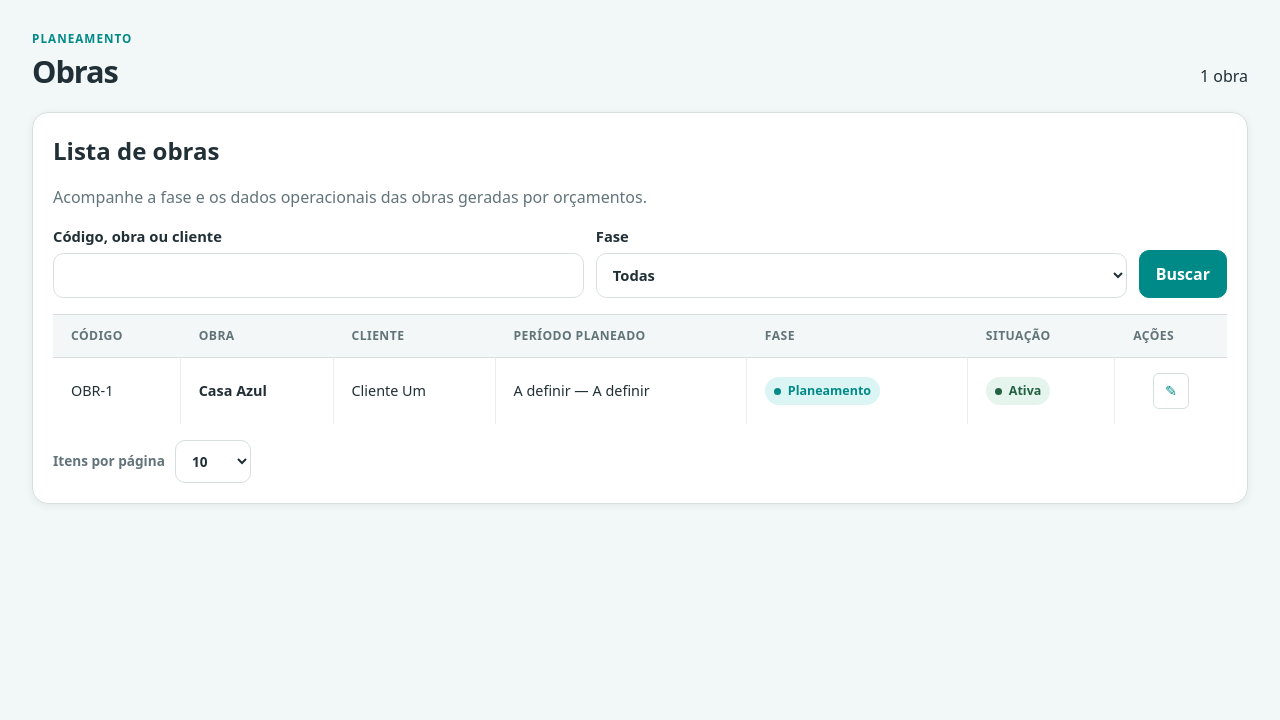
Test: project flows › opens project details from the row and has no manual registration
The image size is (1280, 720).
Click the row named "Abrir detalhes de Casa Azul" at point(640, 391), box 53,357 -> 1227,424
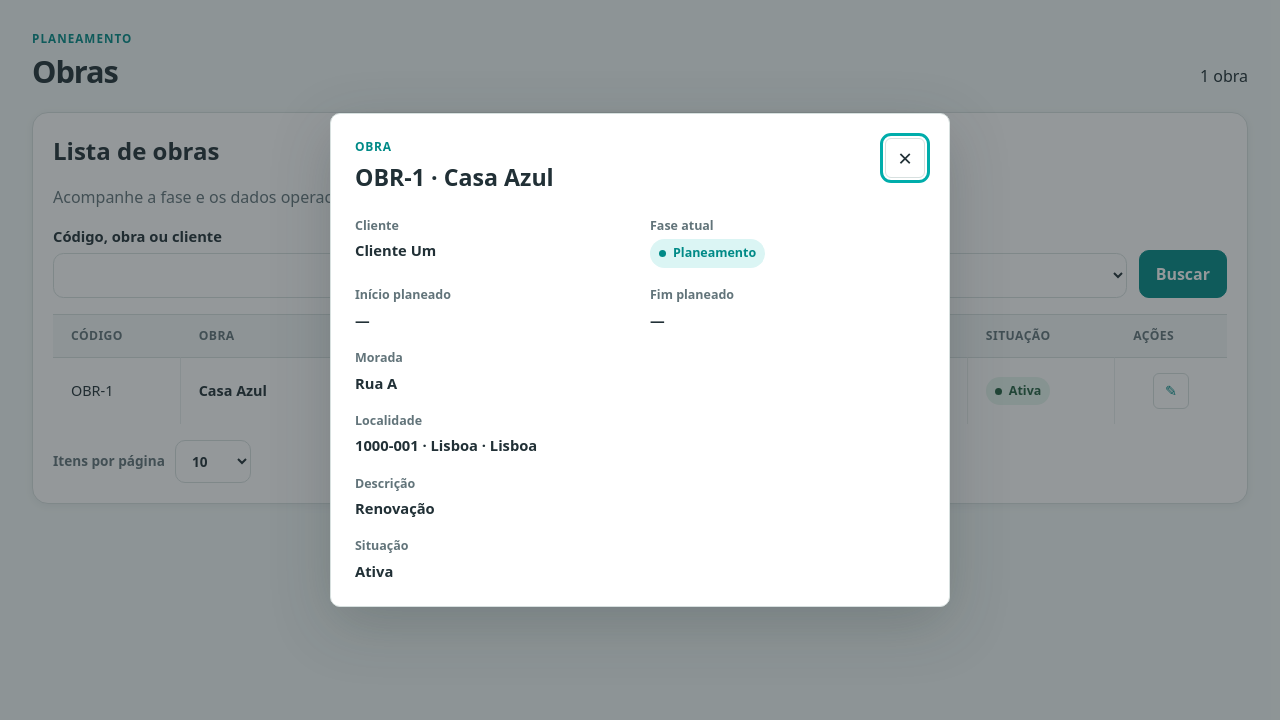
Expected: the text "Planeamento" is shown, 650,239 -> 765,268
